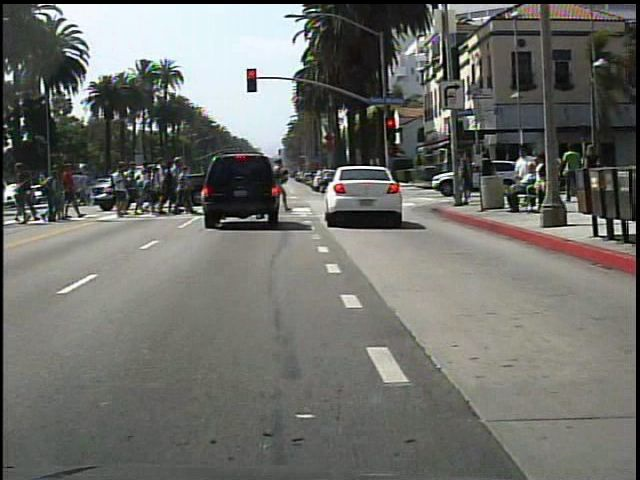person: (504, 159, 538, 215)
